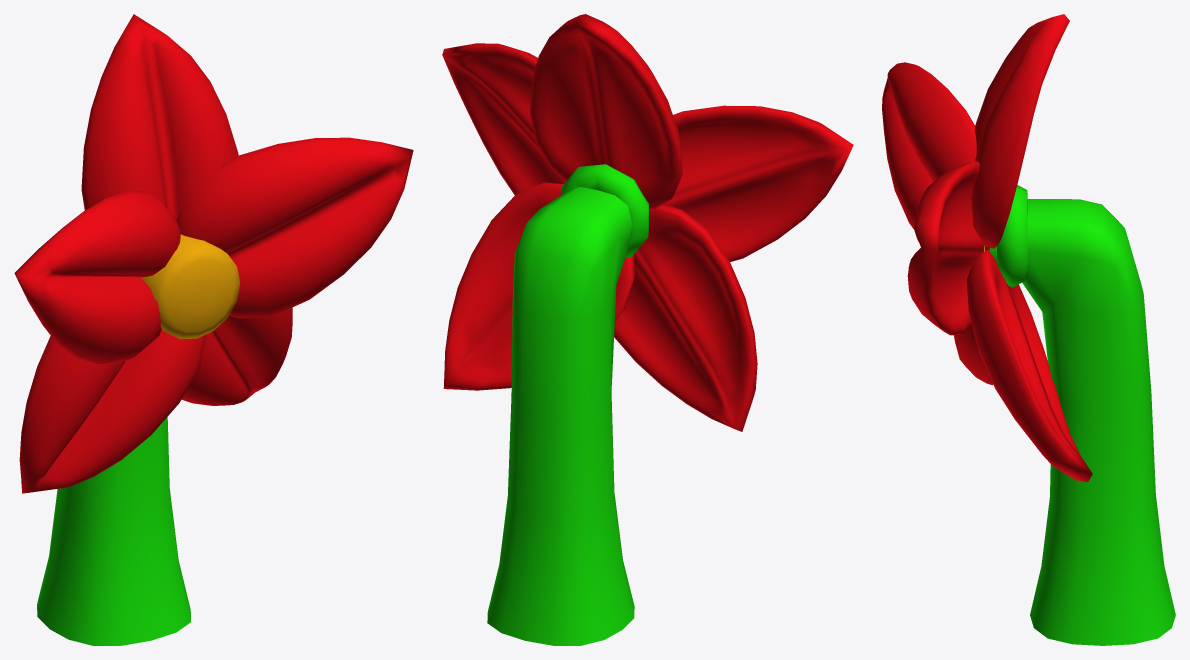
File: Inflate 2.fbx
The picture shows the model from 3 angles, left to right: view 1: azimuth 30°, elevation 25°; view 2: azimuth 150°, elevation 25°; view 3: azimuth 270°, elevation 25°; orthographic projection. The views are drawn at different scales.
Parts seen in each view (by area): view 1: 1.001; view 2: 1.001; view 3: 1.001.
Part boxes in pixels (box(x1,y1,x2,y2)): 1.001: box(14, 14, 413, 645); 1.001: box(442, 14, 853, 645); 1.001: box(882, 14, 1175, 645).
Bounding box in the file's own units: 955 × 1357 × 601.
